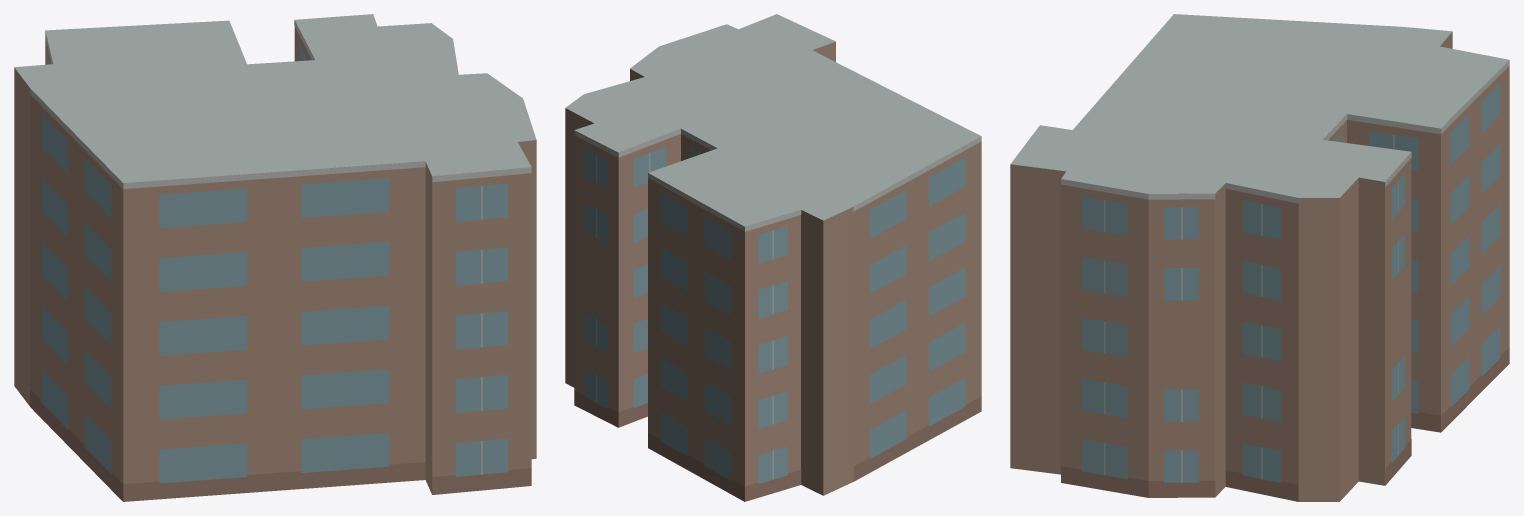
Rendered from survey-upis-32494503.glb.
3 renders of one model, left to right at view 1: azimuth 30°, elevation 25°; view 2: azimuth 150°, elevation 25°; view 3: azimuth 270°, elevation 25°, orthographic. The views are drawn at different scales.
Visible parts, largest first — view 1: survey-upis-32494503.tmp; view 2: survey-upis-32494503.tmp; view 3: survey-upis-32494503.tmp.
Boxes of the visible parts, box(x1,y1,x2,y2) form: survey-upis-32494503.tmp: box(14, 14, 536, 501); survey-upis-32494503.tmp: box(565, 14, 981, 501); survey-upis-32494503.tmp: box(1010, 14, 1509, 501).
Size of the model in its own units: 16.88 by 13 by 19.36.
